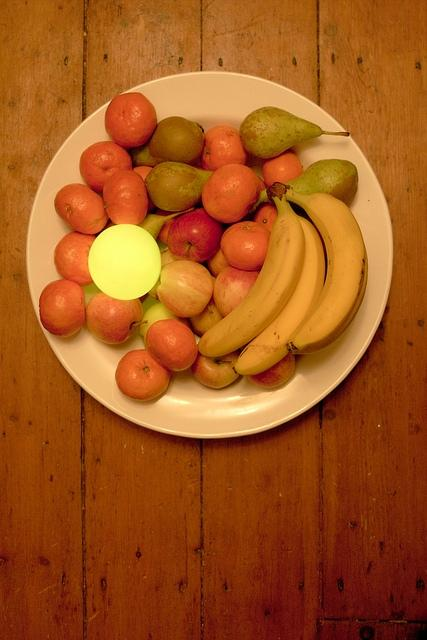apple: (156, 260, 214, 318), (86, 292, 148, 344), (167, 208, 225, 263), (212, 265, 261, 317), (139, 304, 192, 349), (148, 248, 183, 301), (245, 352, 295, 389), (192, 351, 240, 388), (187, 294, 224, 338), (208, 248, 232, 278)
banana: (197, 194, 306, 358), (232, 211, 325, 376), (284, 188, 368, 354)
mandarin: (202, 162, 260, 224), (114, 348, 170, 401), (105, 92, 157, 148), (54, 182, 108, 235), (38, 279, 86, 338), (146, 318, 198, 372), (80, 142, 132, 194), (220, 220, 271, 271), (104, 169, 148, 225), (54, 230, 96, 286), (200, 125, 248, 171), (262, 150, 304, 188), (132, 166, 156, 212), (252, 203, 278, 233), (258, 176, 268, 192)
pear: (249, 159, 359, 213), (240, 106, 350, 159), (146, 162, 204, 212), (147, 116, 206, 165), (136, 206, 194, 242)
